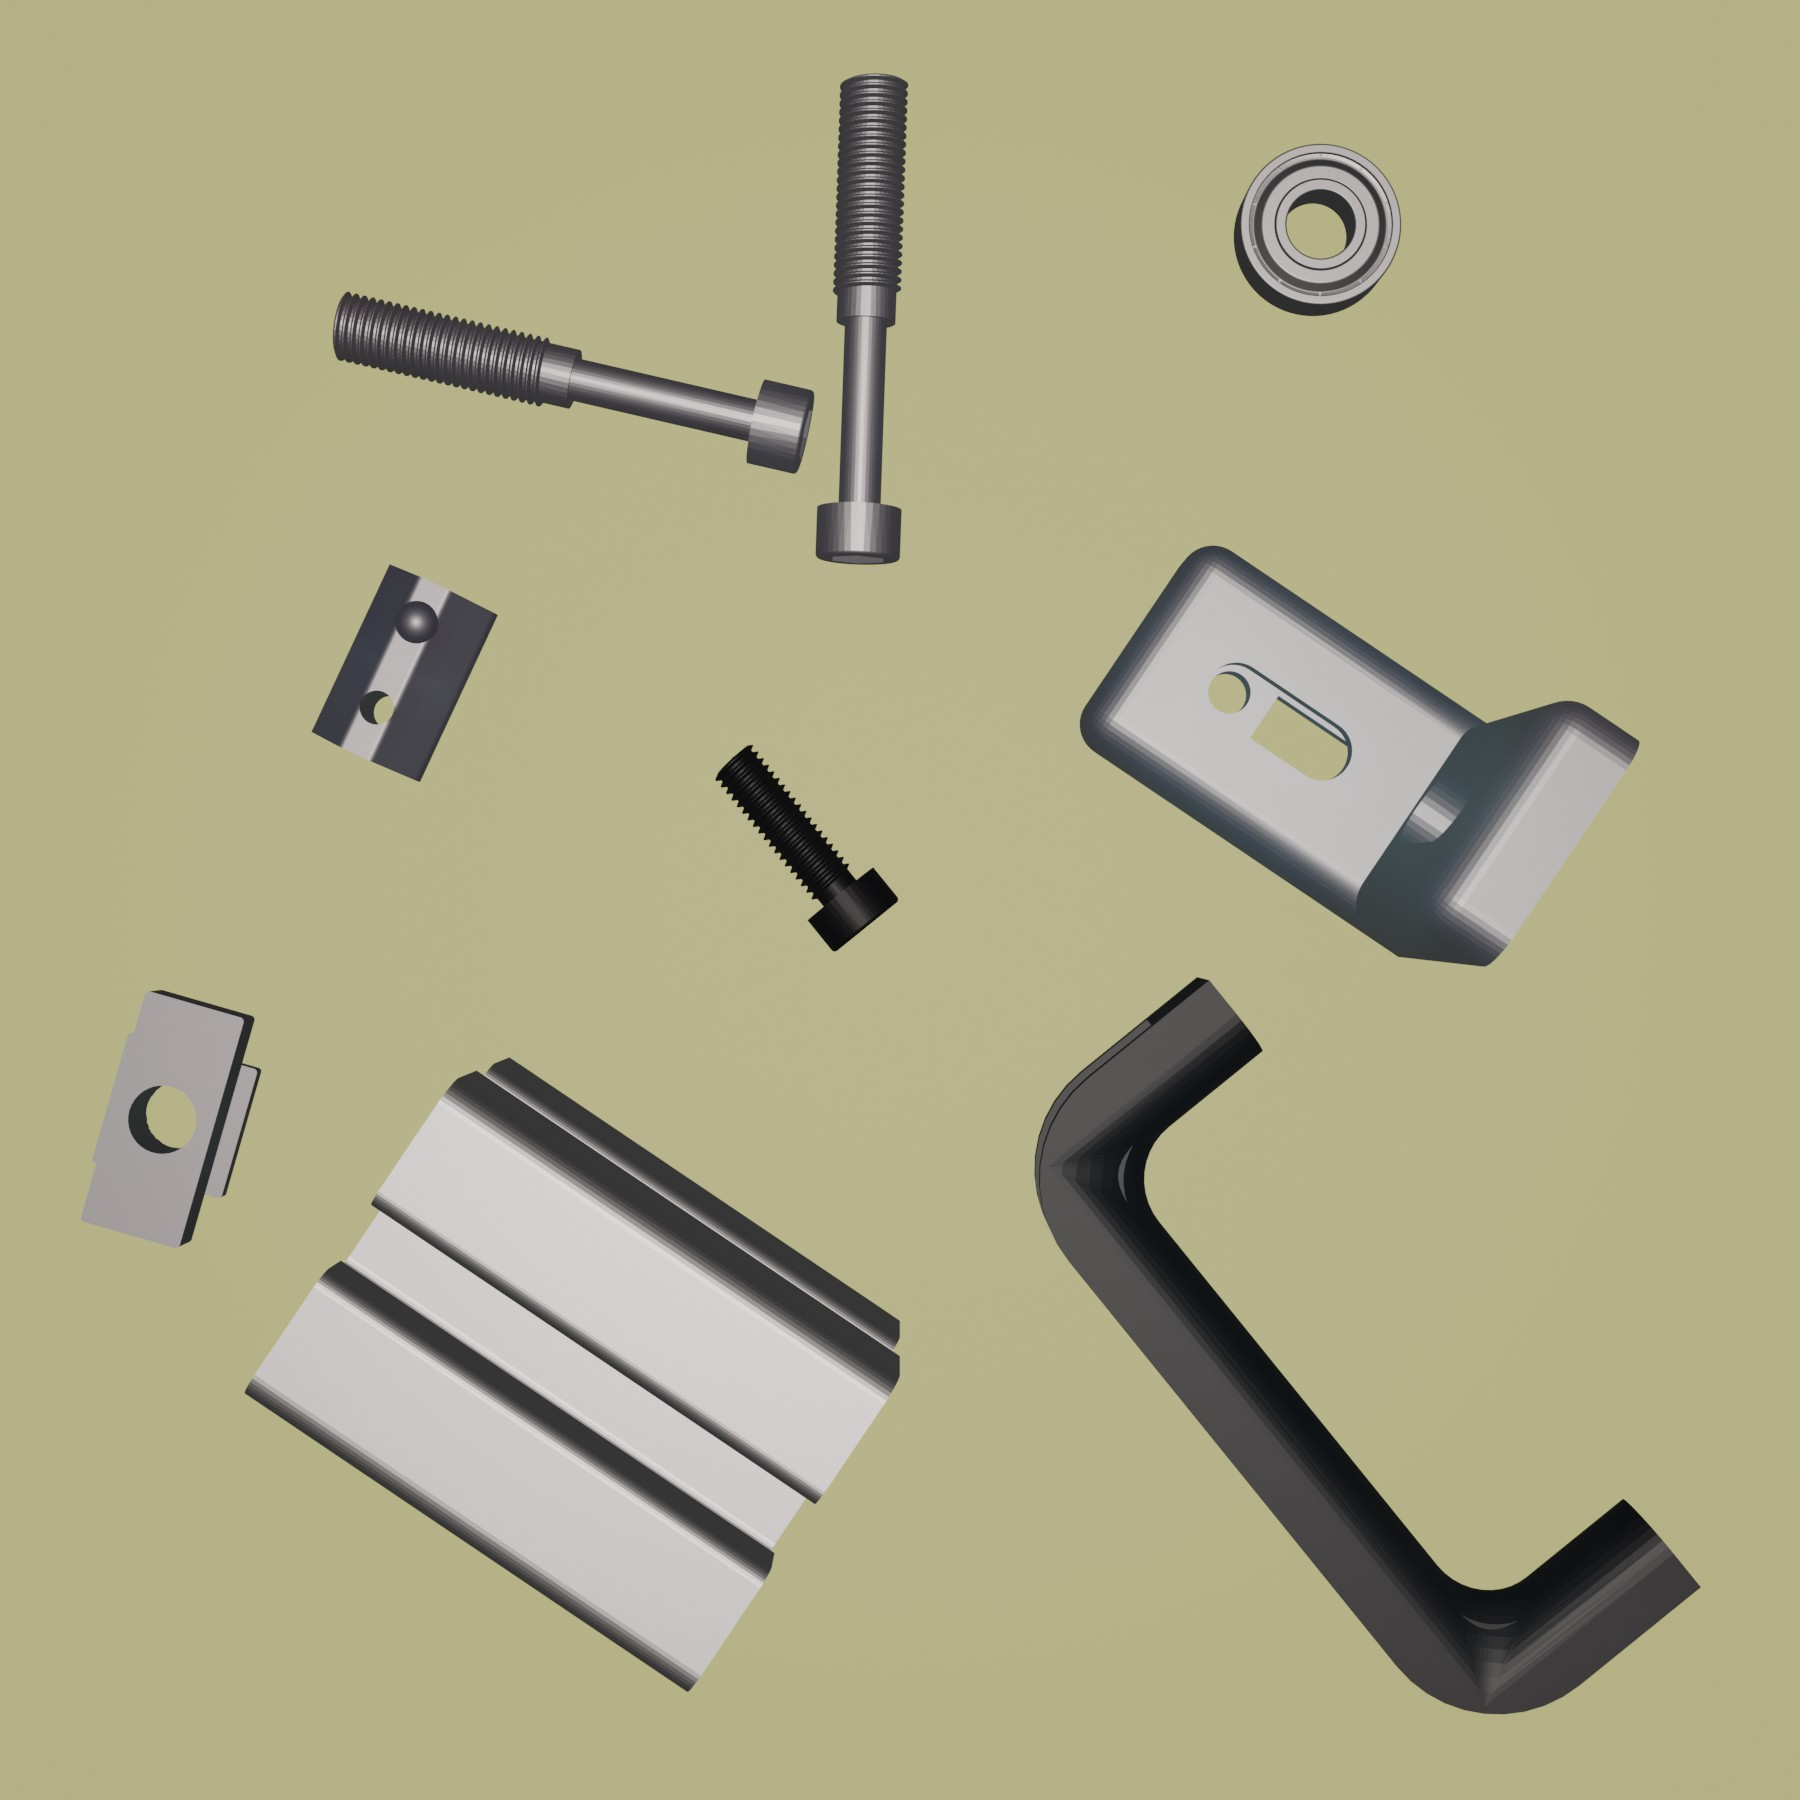Aluminium Extension: (241, 1052, 902, 1696)
Ball Bearing: (1230, 142, 1404, 320)
Multiwinkel: (1080, 546, 1640, 969)
Pull Handle: (1032, 977, 1699, 1714)
Shoulder Socket Head Cap Screw: (326, 287, 818, 476), (813, 69, 912, 570)
Socket Head Cap Screw: (710, 745, 902, 954)
T Nut Square: (77, 981, 265, 1249)
T Spring Nut: (312, 562, 499, 785)
